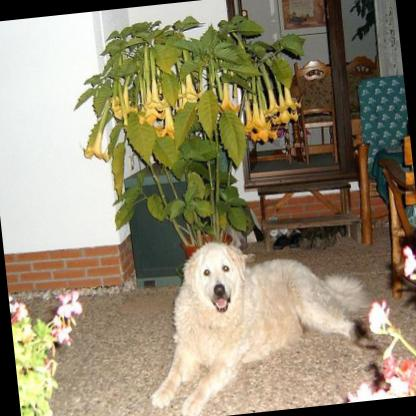kuvasz: (132, 224, 383, 416)
